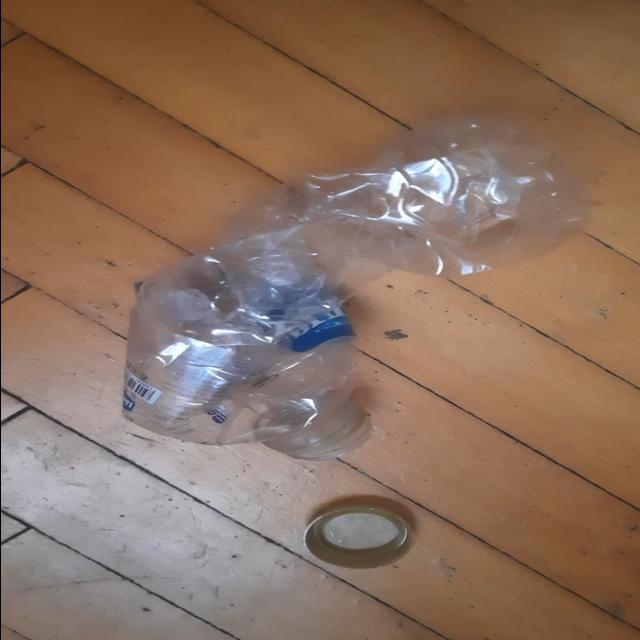Plastic: (120, 122, 596, 452)
